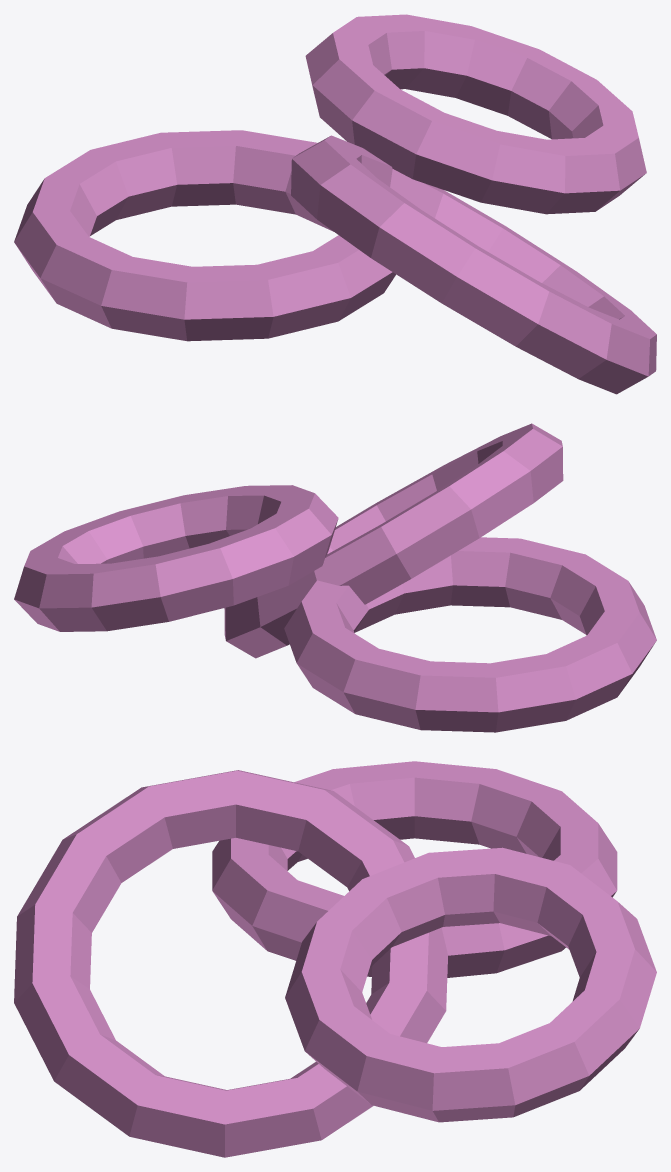
File: ingredient-onion.glb
3 views of the same model, one above another, from view 1: azimuth 30°, elevation 25°; view 2: azimuth 150°, elevation 25°; view 3: azimuth 270°, elevation 25° (orthographic). The views are drawn at different scales.
Parts seen in each view (by area): view 1: IngredientOnion00, IngredientOnion01, IngredientOnion02; view 2: IngredientOnion00, IngredientOnion01, IngredientOnion02; view 3: IngredientOnion02, IngredientOnion01, IngredientOnion00.
Part boxes in pixels (left/top/right/bottom): IngredientOnion00: left=14, top=130, right=395, bottom=341; IngredientOnion01: left=305, top=14, right=646, bottom=214; IngredientOnion02: left=291, top=135, right=656, bottom=394; IngredientOnion00: left=284, top=537, right=656, bottom=732; IngredientOnion01: left=14, top=485, right=338, bottom=631; IngredientOnion02: left=224, top=423, right=563, bottom=658; IngredientOnion02: left=14, top=770, right=447, bottom=1157; IngredientOnion01: left=285, top=847, right=656, bottom=1122; IngredientOnion00: left=212, top=761, right=617, bottom=977.
Size of the model in its own units: 1.03 by 0.4148 by 0.9132.
